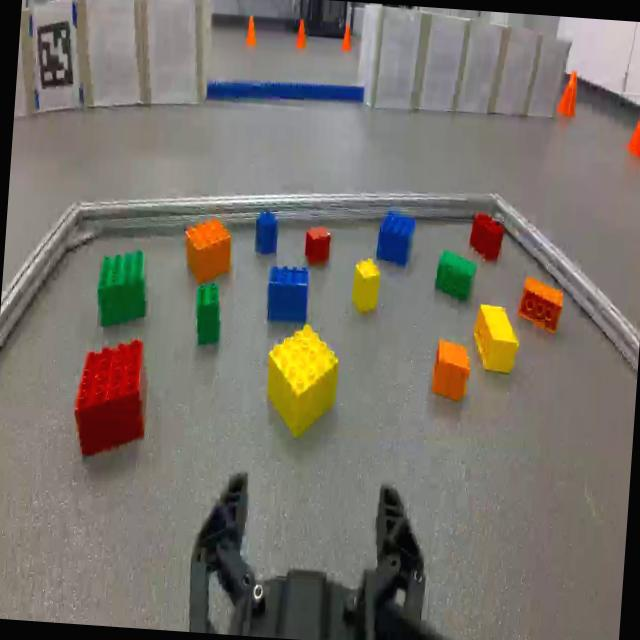block: (262, 326, 342, 442), (468, 302, 520, 378), (352, 256, 382, 314)
blue: (265, 262, 311, 324), (376, 208, 418, 269), (254, 210, 280, 256)
cone: (554, 66, 582, 120), (619, 95, 640, 164), (292, 14, 310, 52), (242, 13, 260, 48), (336, 15, 352, 54)
green: (94, 246, 150, 328), (434, 247, 476, 302), (192, 279, 224, 349)
metal barrier: (0, 187, 640, 372)
orange: (184, 217, 234, 282), (430, 336, 472, 406), (517, 275, 565, 335)
red goal: (68, 338, 154, 464), (466, 211, 505, 261), (302, 223, 330, 266)
river: (205, 72, 362, 106)
storage cube: (65, 0, 149, 112), (132, 0, 215, 110), (356, 3, 422, 112), (487, 22, 554, 122), (413, 10, 468, 116), (458, 18, 501, 113), (14, 19, 44, 121)
